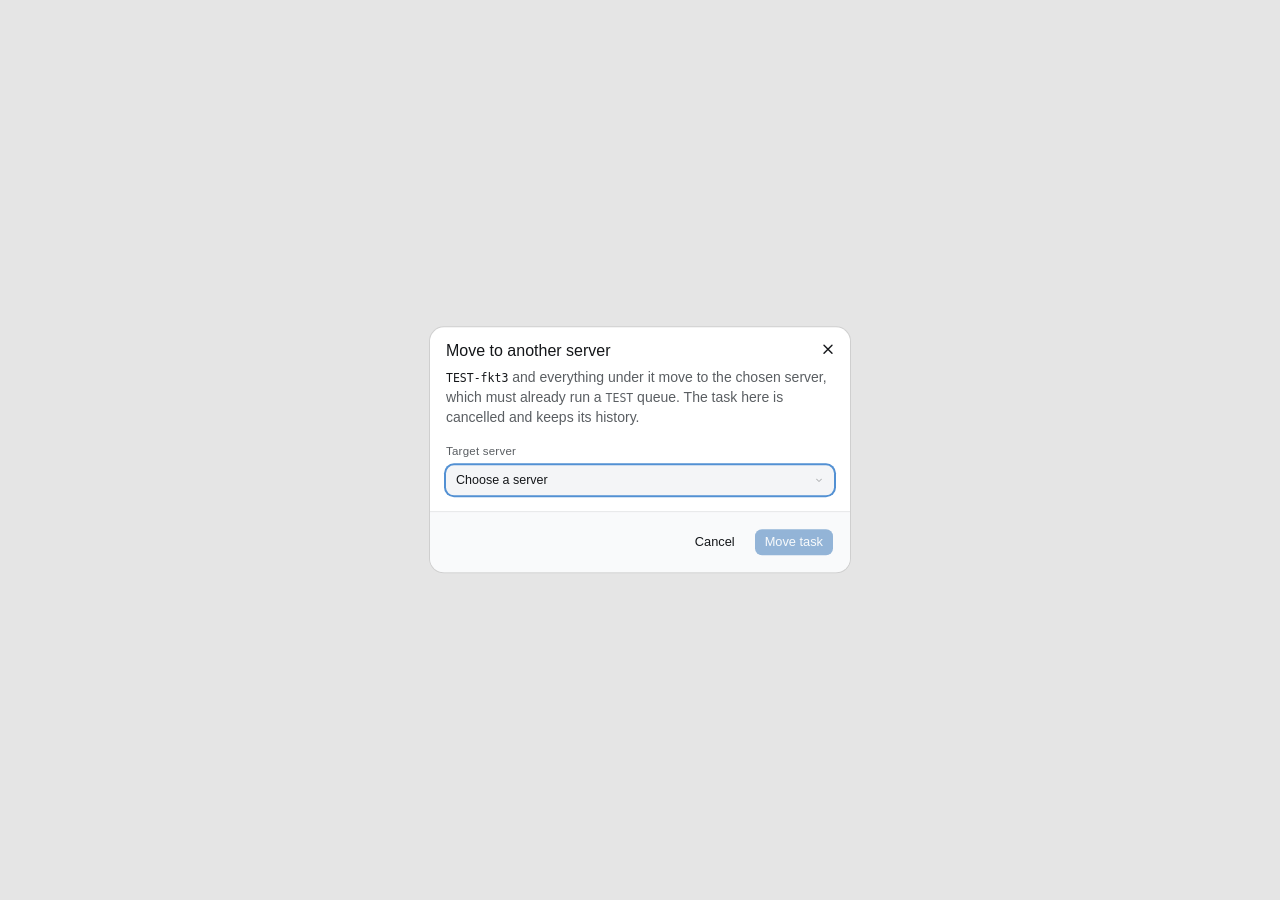
Test: reports a refusal from the target server and keeps the dialog open
Select "builder" in the dropdown labelled "Target server" at (640, 481), box [446,466,834,496]
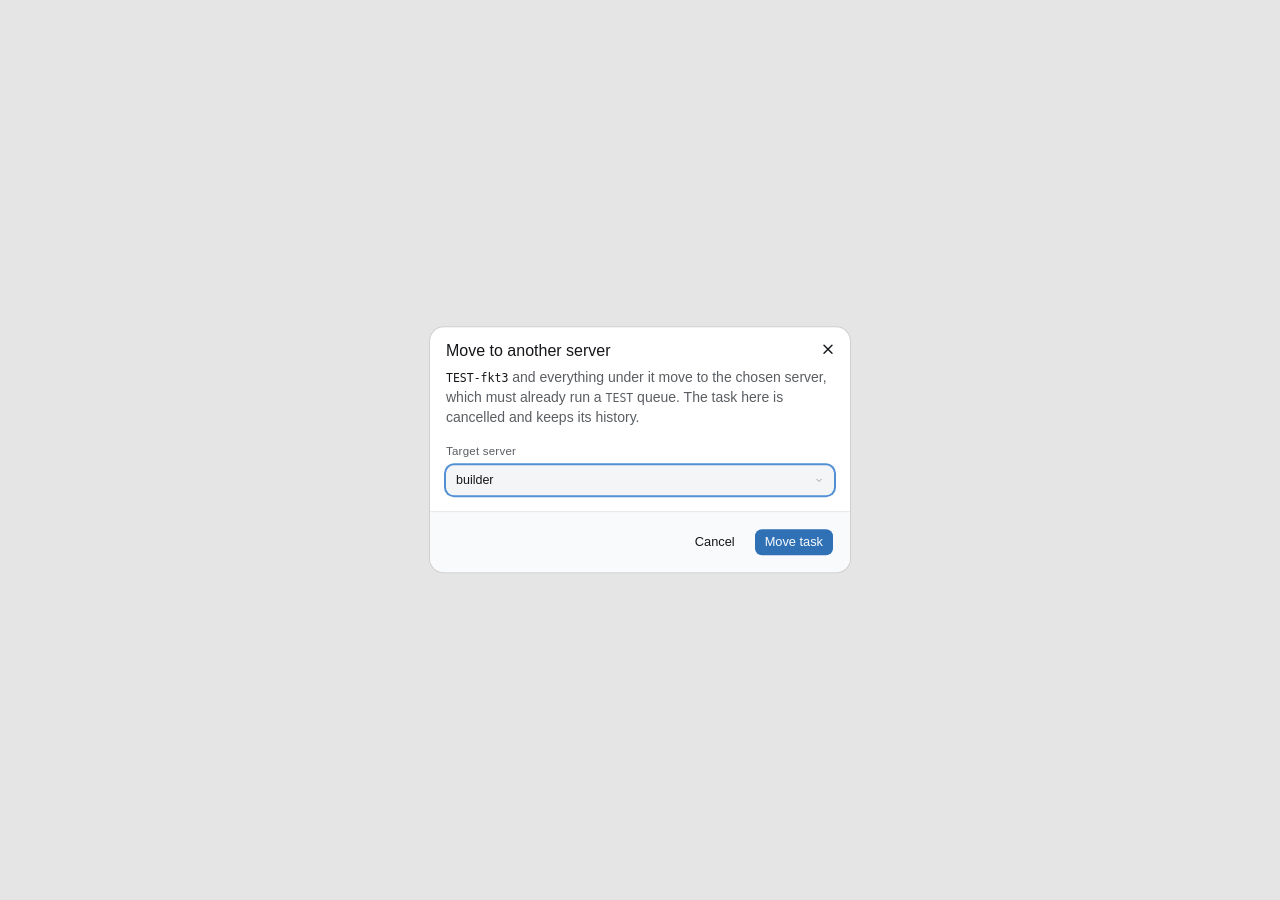
Click the button "Move task" at (794, 543), box [754,529,834,557]
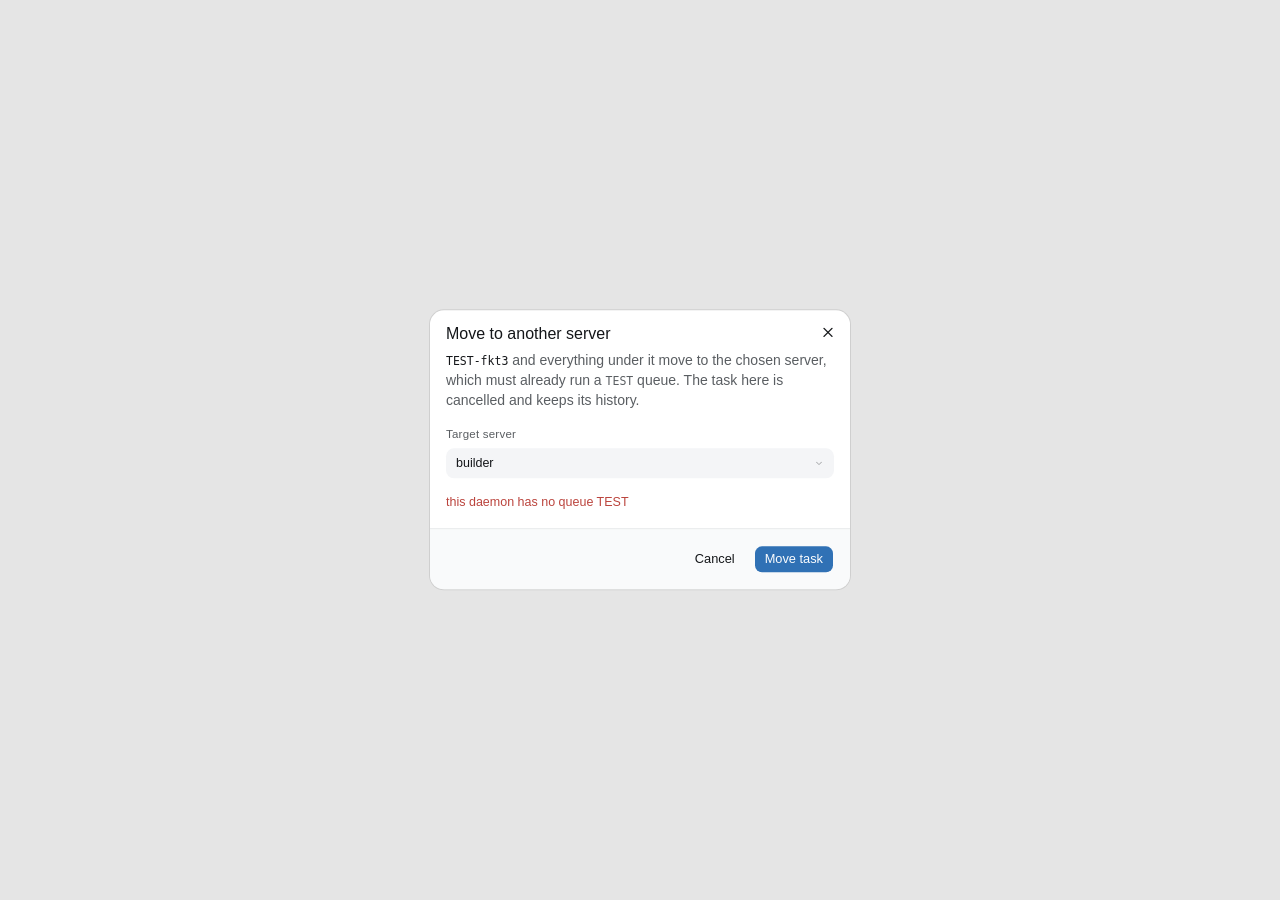
Expected: the message reads "this daemon has no queue TEST", [446,496,628,510]
